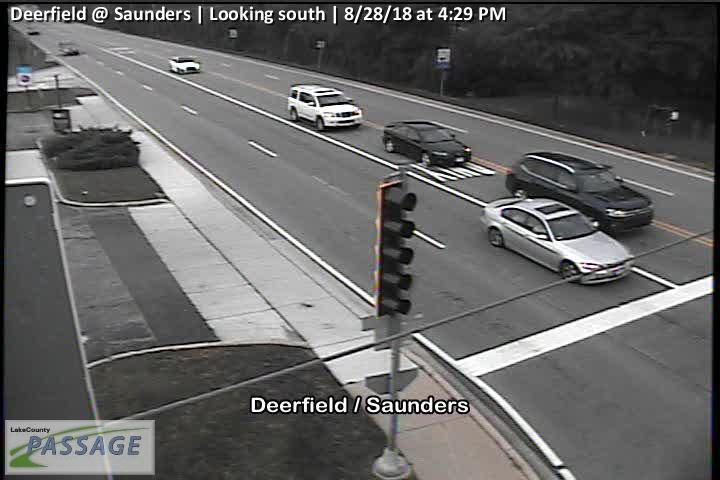SUV: (505, 151, 654, 234), (288, 84, 363, 131), (169, 56, 200, 74)
Sedan: (480, 194, 634, 285), (383, 121, 471, 165)
